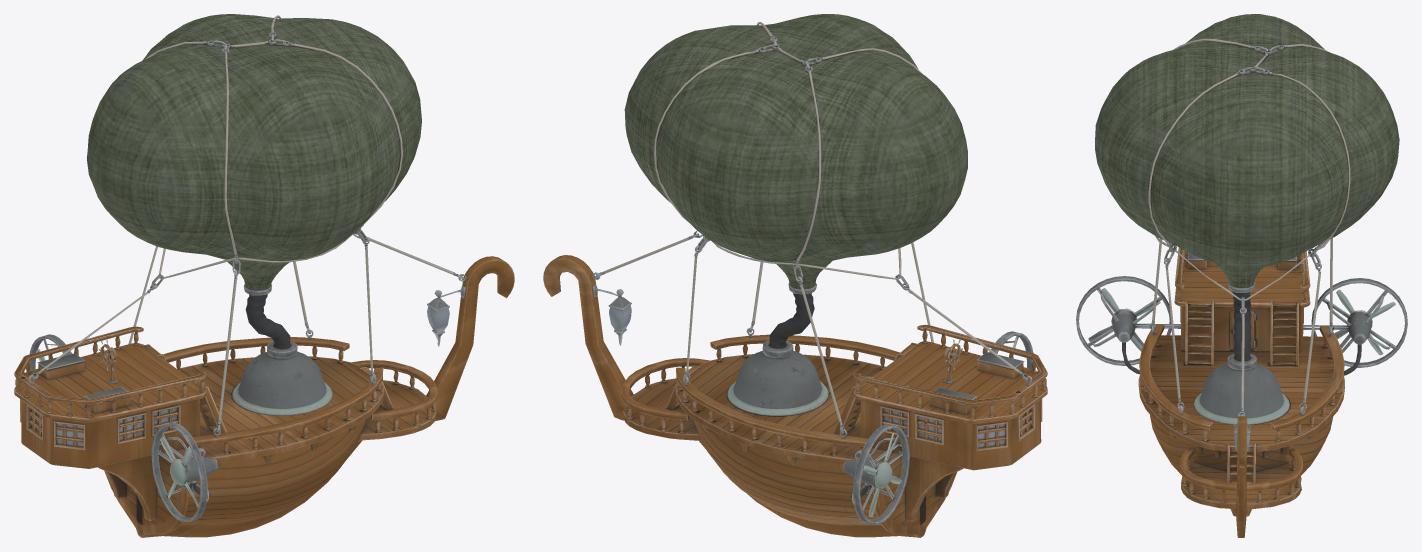
3 views of the same model, side by side, from view 1: azimuth 30°, elevation 25°; view 2: azimuth 150°, elevation 25°; view 3: azimuth 270°, elevation 25° (orthographic). The views are drawn at different scales.
Visible parts, largest first — view 1: Object_2, Object_2.001; view 2: Object_2, Object_2.002; view 3: Object_2, Object_2.002.
Part boxes in pixels (x1=…): Object_2: x1=14, y1=14, x2=514, y2=537; Object_2.001: x1=160, y1=436, x2=198, y2=506; Object_2: x1=543, y1=14, x2=1047, y2=537; Object_2.002: x1=863, y1=432, x2=901, y2=517; Object_2: x1=1076, y1=14, x2=1407, y2=537; Object_2.002: x1=1334, y1=289, x2=1395, y2=355.
Bounding box in the file's own units: 7.55 × 7.13 × 4.7.
1 material, 1 textured.
